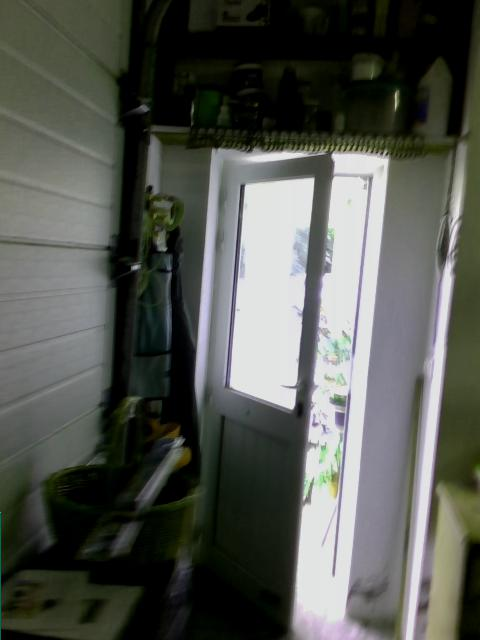semi_door: (187, 139, 387, 639)
